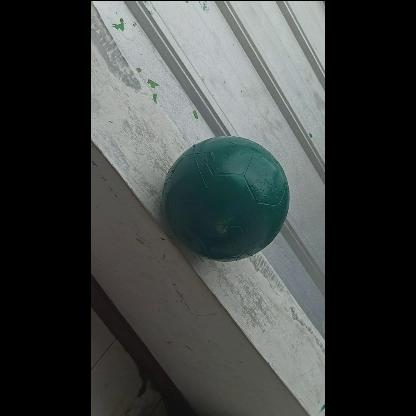green_ball: (165, 131, 291, 257)
